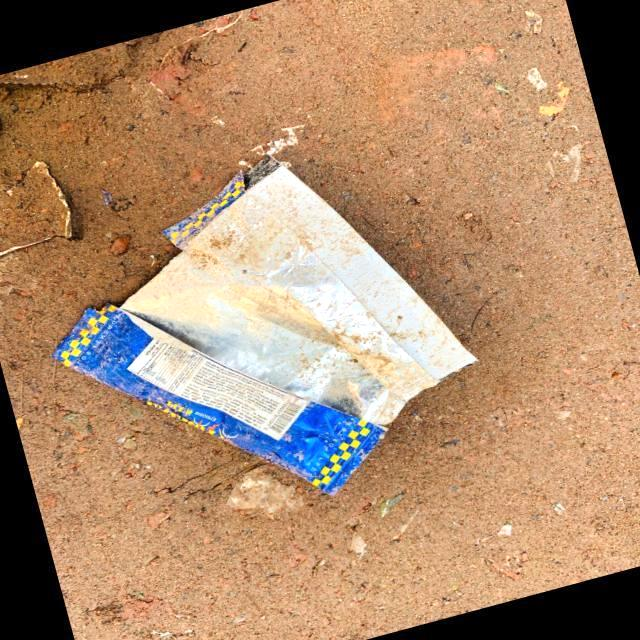packet: (143, 188, 430, 468)
